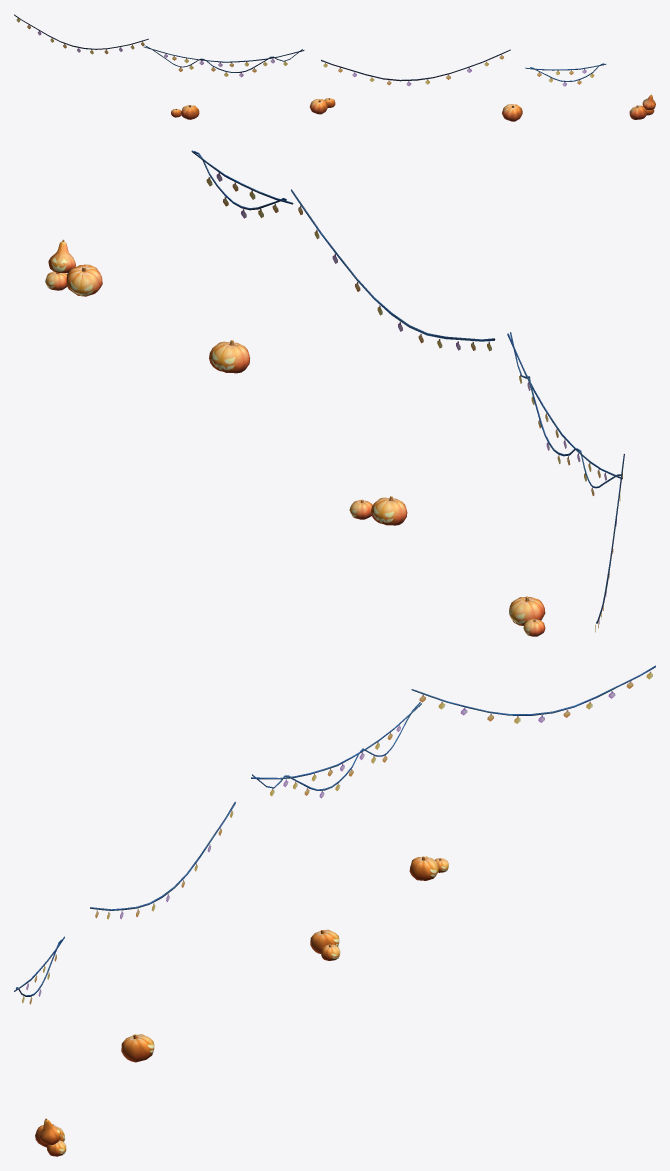
Rendered from pref_sm_4v4beachtech_WSJ_bk_decorate_R01_lv0.fbx.
The picture shows the model from 3 angles, top to bottom: view 1: azimuth 30°, elevation 25°; view 2: azimuth 150°, elevation 25°; view 3: azimuth 270°, elevation 25°; orthographic projection. The views are drawn at different scales.
Parts seen in each view (by area): view 1: sm_4v4beachtech_WSJ_bk_decorate_R01_a_lv0, sm_4v4beachtech_WSJ_bk_decorate_R01_b_lv0; view 2: sm_4v4beachtech_WSJ_bk_decorate_R01_b_lv0, sm_4v4beachtech_WSJ_bk_decorate_R01_a_lv0; view 3: sm_4v4beachtech_WSJ_bk_decorate_R01_a_lv0, sm_4v4beachtech_WSJ_bk_decorate_R01_b_lv0.
Boxes of the visible parts, left/top/right/bottom form: sm_4v4beachtech_WSJ_bk_decorate_R01_a_lv0: left=14, top=14, right=606, bottom=86; sm_4v4beachtech_WSJ_bk_decorate_R01_b_lv0: left=171, top=94, right=655, bottom=121; sm_4v4beachtech_WSJ_bk_decorate_R01_b_lv0: left=45, top=239, right=545, bottom=636; sm_4v4beachtech_WSJ_bk_decorate_R01_a_lv0: left=191, top=150, right=624, bottom=632; sm_4v4beachtech_WSJ_bk_decorate_R01_a_lv0: left=14, top=665, right=655, bottom=1004; sm_4v4beachtech_WSJ_bk_decorate_R01_b_lv0: left=35, top=856, right=448, bottom=1156.
Size of the model in its own units: 30.58 by 5.92 by 22.57.
